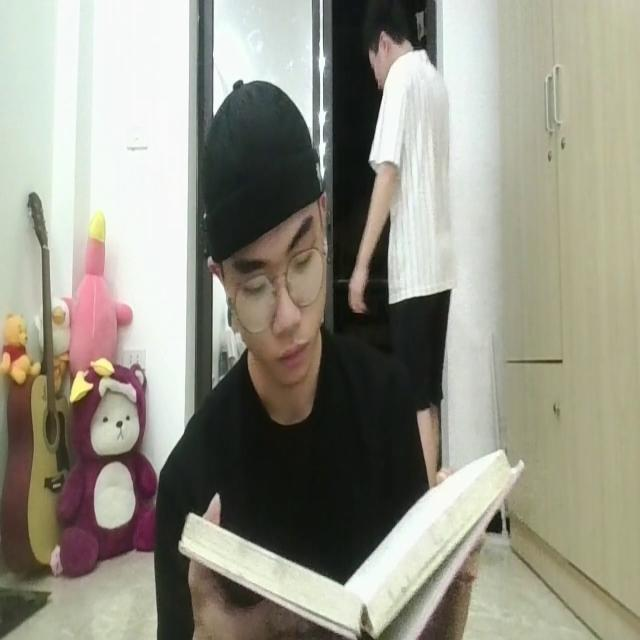book: (176, 447, 516, 628)
extra_person: (354, 0, 459, 412)
student: (146, 86, 413, 560)
